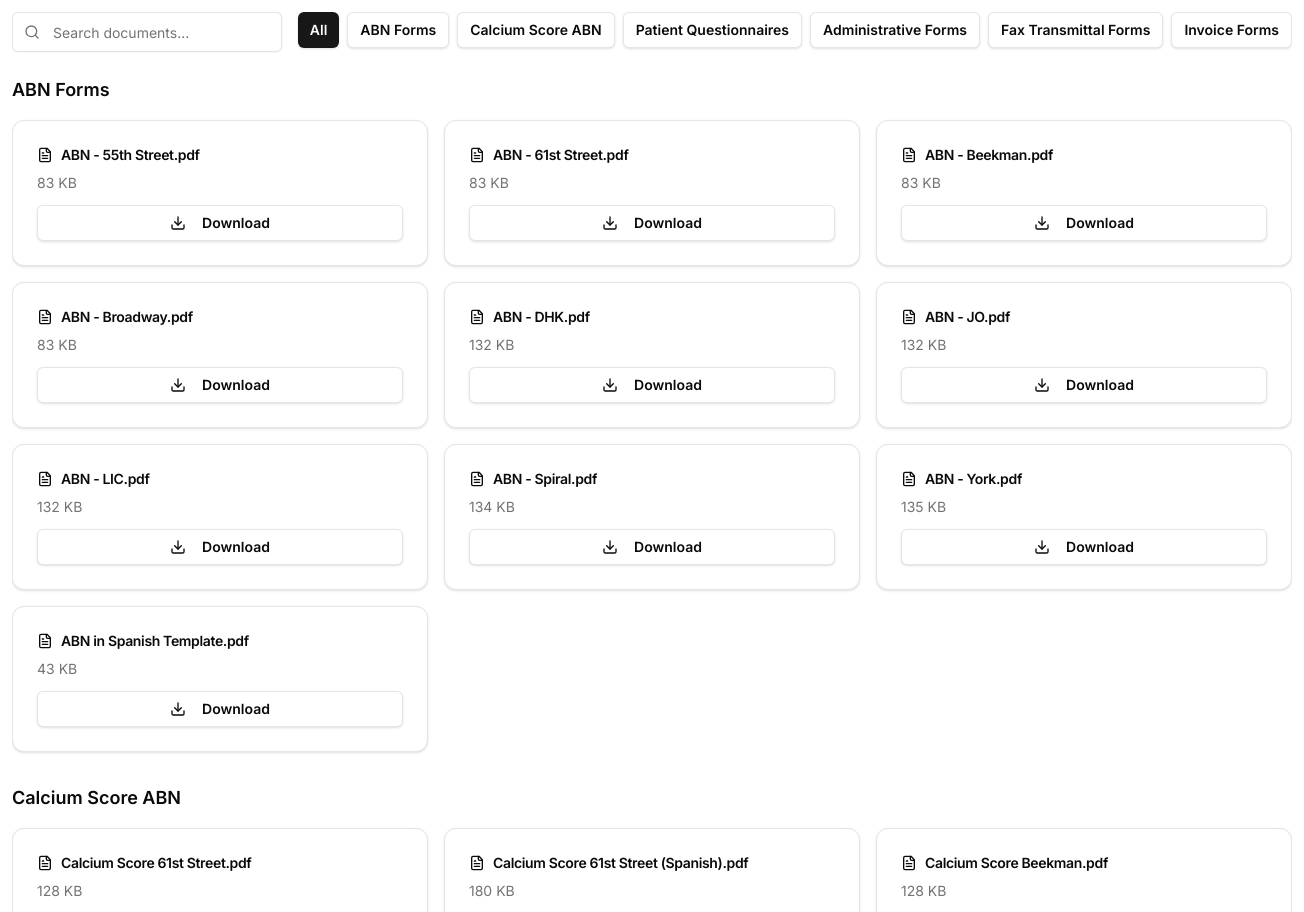
Test: DocumentBrowser › Search Functionality › should filter documents by search query
// Search for "Biopsy"
Type "Biopsy" into the field with placeholder "Search documents...". click: (147, 32)
box: left=12, top=12, right=282, bottom=52
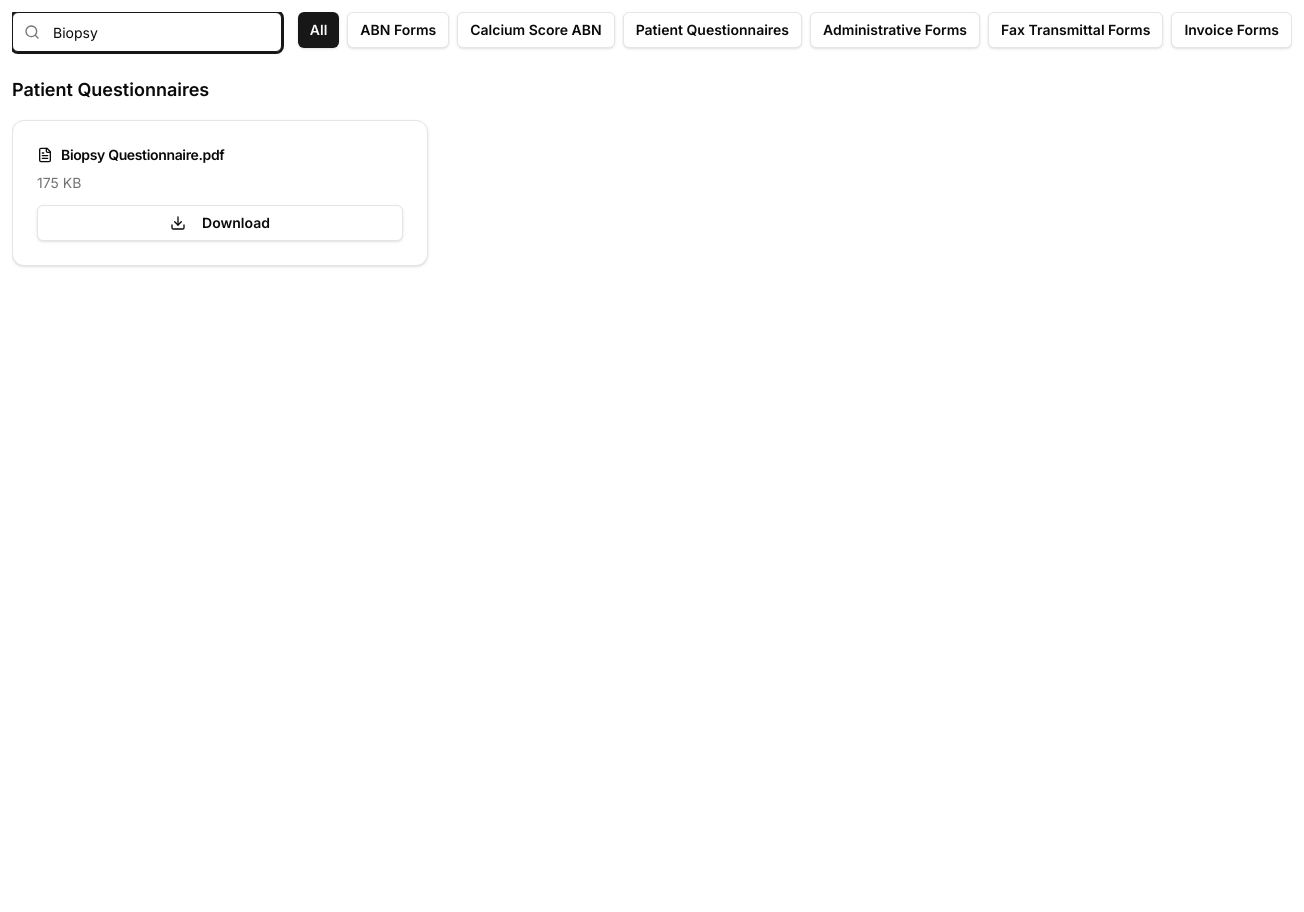
Expected: the text "Biopsy Questionnaire.pdf" is shown, left=37, top=146, right=224, bottom=163
Now the text "ABN - 55th Street.pdf" is gone
